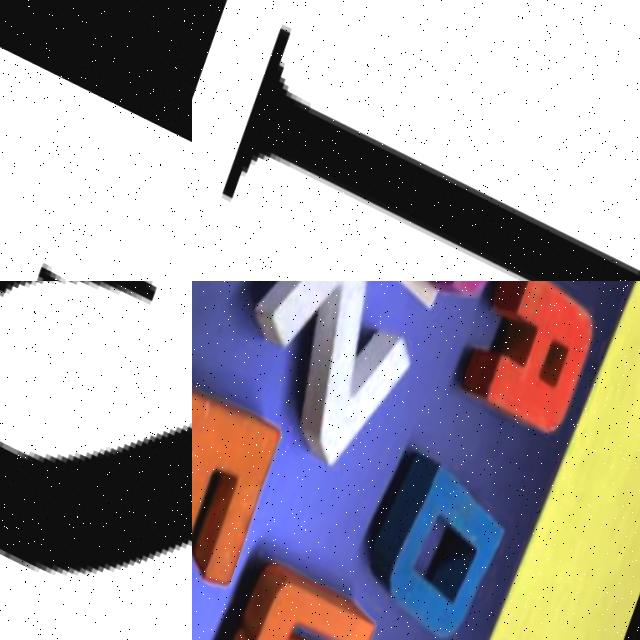1: (204, 0, 640, 281)
A: (447, 281, 607, 436)
D: (336, 430, 519, 640)
E: (192, 330, 295, 631)
S: (0, 281, 192, 640)
W: (199, 529, 379, 640)
Z: (0, 0, 192, 281), (199, 281, 460, 483)
